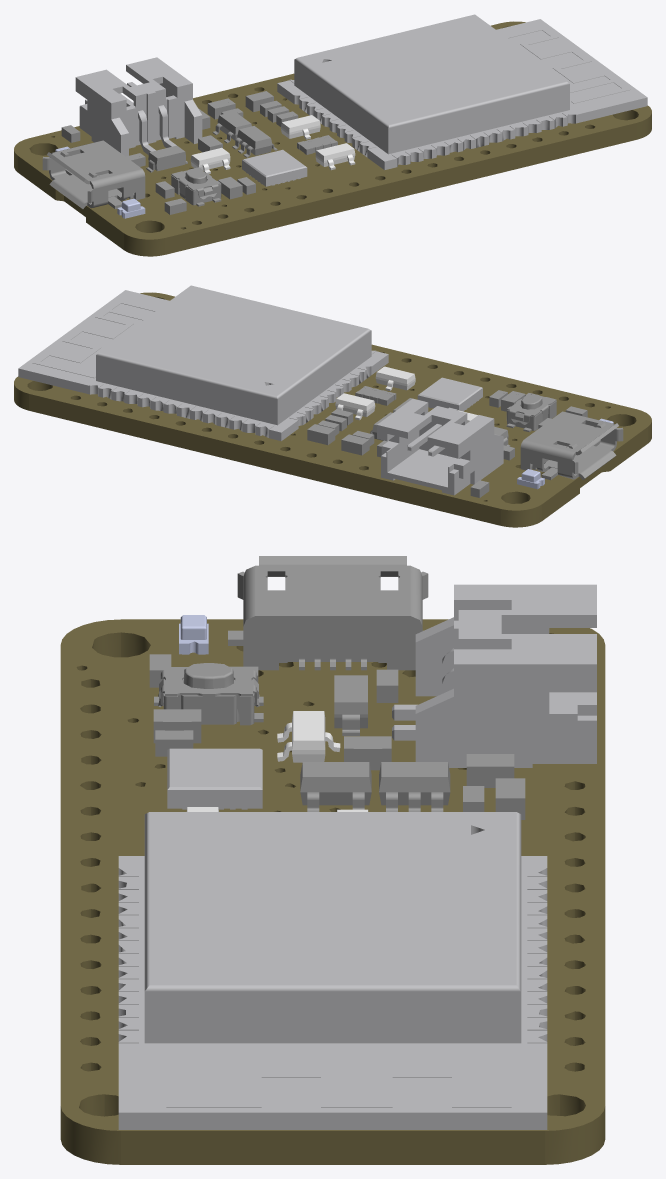
Rendered from ada-3405.glb.
3 renders of one model, top to bottom at view 1: azimuth 30°, elevation 25°; view 2: azimuth 150°, elevation 25°; view 3: azimuth 270°, elevation 25°, orthographic. The views are drawn at different scales.
Visible parts, largest first — view 1: 0.5833333333333334_0.5833333333333334_0.5833333333333334_0.8, 0.16666666666666666_0.16666666666666666_0.08333333333333333_, 0.3333333333333333_0.3333333333333333_0.3333333333333333_0, 0.9166666666666666_0.9166666666666666_0.9166666666666666_0.8, 0.5833333333333334_0.6666666666666666_0.8333333333333334_0; view 2: 0.5833333333333334_0.5833333333333334_0.5833333333333334_0.8, 0.16666666666666666_0.16666666666666666_0.08333333333333333_, 0.3333333333333333_0.3333333333333333_0.3333333333333333_0, 0.9166666666666666_0.9166666666666666_0.9166666666666666_0.8, 0.5833333333333334_0.6666666666666666_0.8333333333333334_0; view 3: 0.5833333333333334_0.5833333333333334_0.5833333333333334_0.8, 0.16666666666666666_0.16666666666666666_0.08333333333333333_, 0.3333333333333333_0.3333333333333333_0.3333333333333333_0, 0.9166666666666666_0.9166666666666666_0.9166666666666666_0.8, 0.5833333333333334_0.6666666666666666_0.8333333333333334_0.
Part boxes in pixels (box(x1,y1,x2,y2)): 0.5833333333333334_0.5833333333333334_0.5833333333333334_0.8: box(75, 14, 647, 186); 0.16666666666666666_0.16666666666666666_0.08333333333333333_: box(14, 21, 651, 256); 0.3333333333333333_0.3333333333333333_0.3333333333333333_0: box(42, 91, 337, 214); 0.9166666666666666_0.9166666666666666_0.9166666666666666_0.8: box(190, 115, 355, 173); 0.5833333333333334_0.6666666666666666_0.8333333333333334_0: box(55, 146, 145, 218); 0.5833333333333334_0.5833333333333334_0.5833333333333334_0.8: box(18, 285, 503, 495); 0.16666666666666666_0.16666666666666666_0.08333333333333333_: box(14, 292, 651, 527); 0.3333333333333333_0.3333333333333333_0.3333333333333333_0: box(307, 386, 623, 497); 0.9166666666666666_0.9166666666666666_0.9166666666666666_0.8: box(335, 366, 477, 422); 0.5833333333333334_0.6666666666666666_0.8333333333333334_0: box(517, 418, 613, 489); 0.5833333333333334_0.5833333333333334_0.5833333333333334_0.8: box(118, 584, 596, 1129); 0.16666666666666666_0.16666666666666666_0.08333333333333333_: box(60, 619, 605, 1164); 0.3333333333333333_0.3333333333333333_0.3333333333333333_0: box(149, 556, 525, 819); 0.9166666666666666_0.9166666666666666_0.9166666666666666_0.8: box(186, 711, 368, 811); 0.5833333333333334_0.6666666666666666_0.8333333333333334_0: box(179, 615, 208, 654).
Size of the model in its own units: 5.14 by 0.6368 by 2.29.
